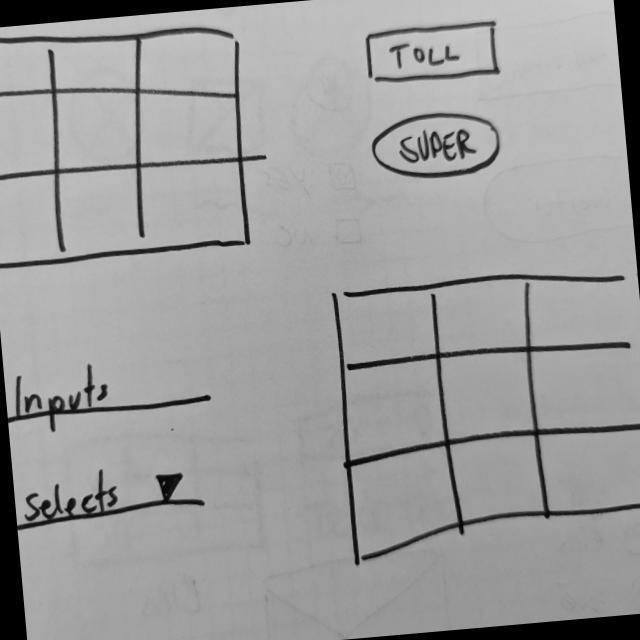button: (368, 104, 505, 188), (361, 18, 503, 89)
input: (4, 353, 216, 438)
select: (13, 459, 209, 535)
table: (322, 258, 640, 568), (1, 7, 257, 275)
